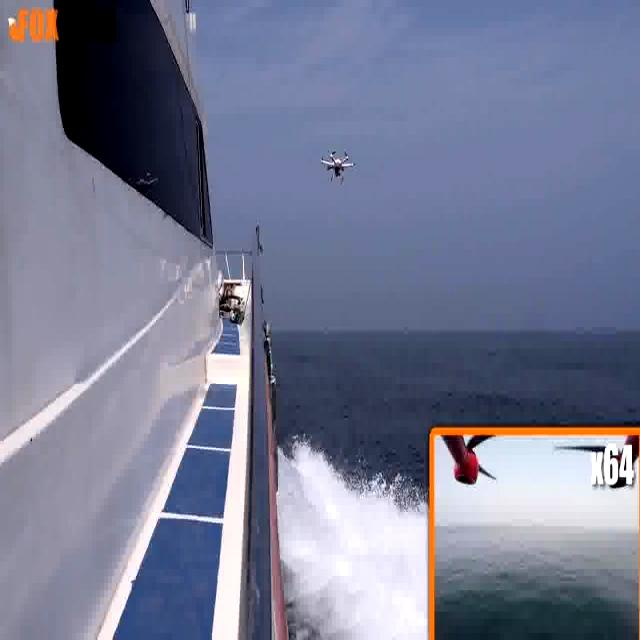drone: (314, 140, 356, 187)
